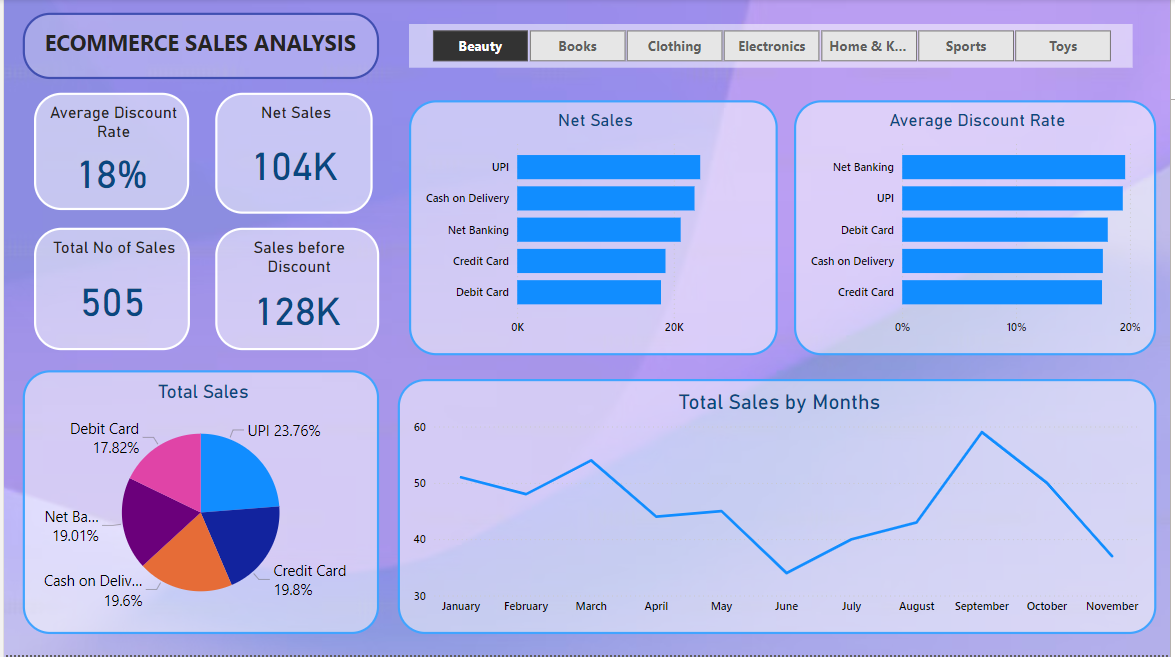

Layout of this report page (visuals, bound fields, positions):
{"tool":"powerbi","page":{"name":"Page 1","canvas":[1280,720],"ordinal":0},"visuals":[{"type":"pieChart","title":"Total Sales","fields":{"Y":["CountNonNull(ecommerce_dataset_updated.Purchase_Date)"],"Category":["ecommerce_dataset_updated.Payment_Method"]},"box":[20.6,407.5,391.1,289.5],"z":0},{"type":"barChart","title":"Average Discount Rate","fields":{"Y":["Avg(ecommerce_dataset_updated.Discount (%))"],"Category":["ecommerce_dataset_updated.Payment_Method"]},"box":[867.2,111.1,397.9,279.9],"z":1000},{"type":"slicer","fields":{"Values":["ecommerce_dataset_updated.Category"]},"box":[444.6,27.4,794.5,48],"z":2000},{"type":"lineChart","title":"Total Sales by Months","fields":{"Category":["ecommerce_dataset_updated.Purchase_Date.Variation.Date Hierarchy.Month"],"Y":["CountNonNull(ecommerce_dataset_updated.Category)"]},"box":[432.2,417.2,832.9,279.9],"z":3000},{"type":"barChart","title":"Net Sales","fields":{"Category":["ecommerce_dataset_updated.Payment_Method"],"Y":["Sum(ecommerce_dataset_updated.Final_Price(Rs.))"]},"box":[444.6,111.1,404.8,279.9],"z":4000},{"type":"card","title":"Average Discount Rate","fields":{"Values":["Avg(ecommerce_dataset_updated.Discount (%))"]},"box":[32.9,102.9,170.2,129],"z":5000},{"type":"card","title":"Net Sales","fields":{"Values":["Sum(ecommerce_dataset_updated.Final_Price(Rs.))"]},"box":[231.9,102.9,172.9,133.1],"z":6000},{"type":"card","title":"Total No of Sales","fields":{"Values":["CountNonNull(ecommerce_dataset_updated.Product_ID)"]},"box":[32.9,251.1,171.5,134.5],"z":7000},{"type":"card","title":"Sales before Discount","fields":{"Values":["Sum(ecommerce_dataset_updated.Price (Rs.))"]},"box":[231.9,251.1,179.8,134.5],"z":8000},{"type":"textbox","box":[20.6,15.1,391.1,72.7],"z":9000}]}

Visuals, with their boxes in screenshot pixels (x1, y1, x2, y2), scaled from the page's 1280x720 canvas onto the 1175x657 screenshot:
"Total Sales" pieChart: <box>19,372,378,636</box>
"Average Discount Rate" barChart: <box>796,101,1161,357</box>
slicer - ecommerce_dataset_updated.Category: <box>408,25,1137,69</box>
"Total Sales by Months" lineChart: <box>397,381,1161,636</box>
"Net Sales" barChart: <box>408,101,780,357</box>
"Average Discount Rate" card: <box>30,94,186,212</box>
"Net Sales" card: <box>213,94,372,215</box>
"Total No of Sales" card: <box>30,229,188,352</box>
"Sales before Discount" card: <box>213,229,378,352</box>
textbox: <box>19,14,378,80</box>
